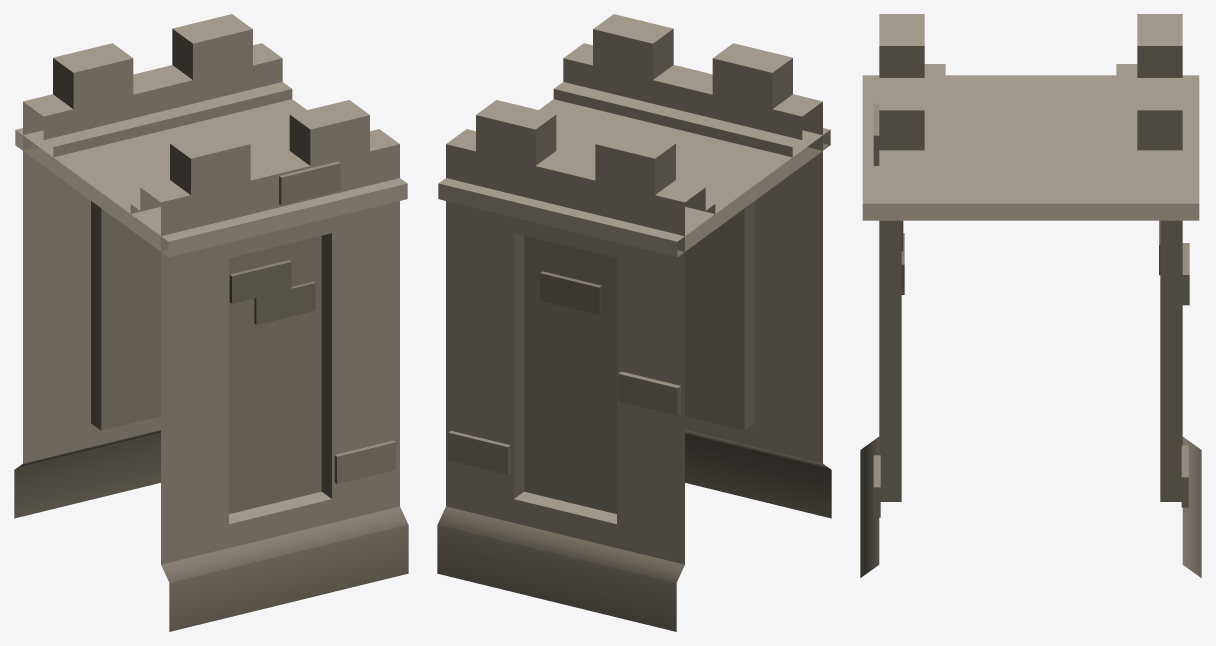
Rendered from SF_Bld_Castle_Wall_01.fbx.
The picture shows the model from 3 angles, left to right: view 1: azimuth 30°, elevation 25°; view 2: azimuth 150°, elevation 25°; view 3: azimuth 270°, elevation 25°; orthographic projection. The views are drawn at different scales.
Visible parts, largest first — view 1: SF_Bld_Castle_Wall_01; view 2: SF_Bld_Castle_Wall_01; view 3: SF_Bld_Castle_Wall_01.
Boxes of the visible parts, x1=… form: SF_Bld_Castle_Wall_01: x1=14, y1=14, x2=408, y2=631; SF_Bld_Castle_Wall_01: x1=437, y1=14, x2=831, y2=631; SF_Bld_Castle_Wall_01: x1=860, y1=14, x2=1201, y2=577.
Bounding box in the file's own units: 5 × 9.19 × 5.62.
